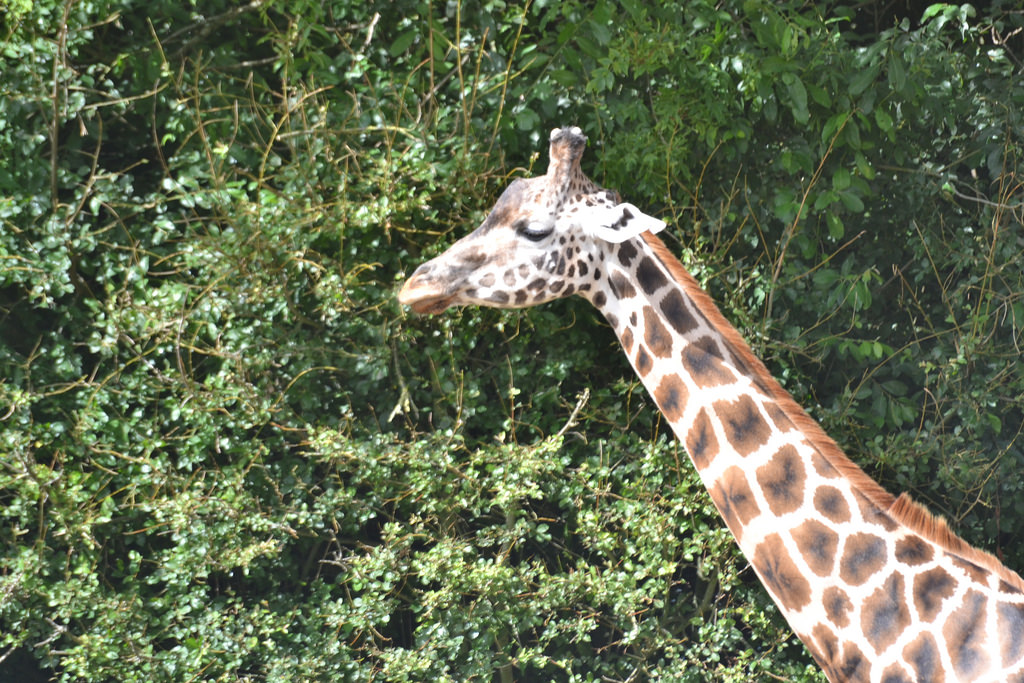giraffe: (347, 109, 978, 676)
